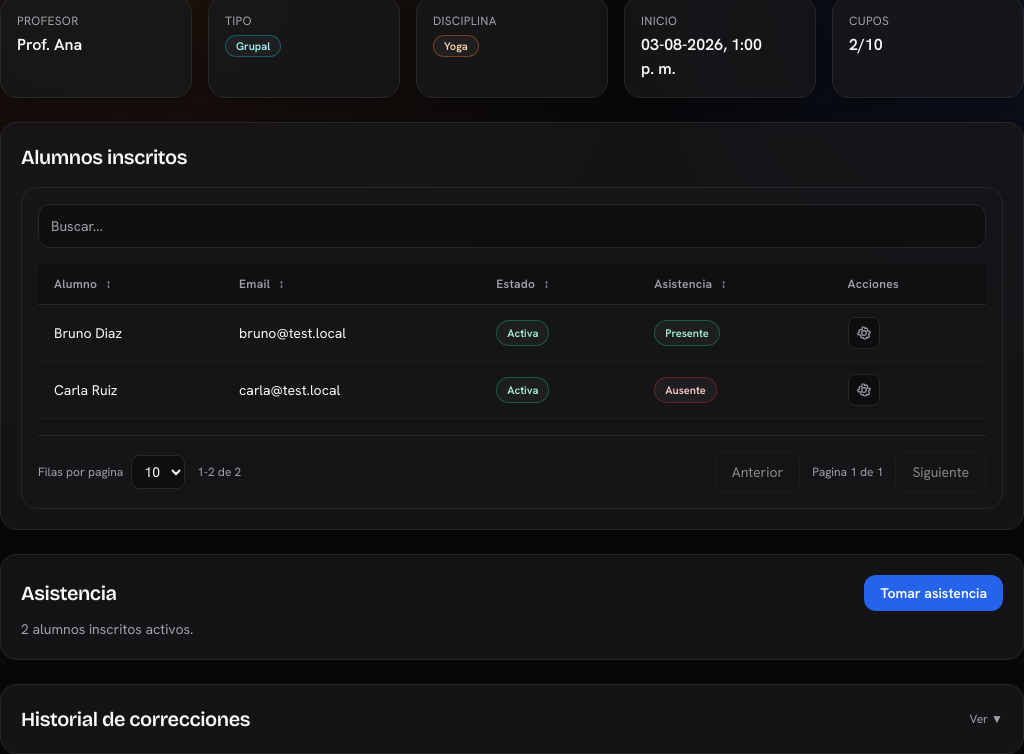
GymAdminClassDetailPage — historial de correcciones (#10.2) › un rol distinto de gym_admin/superadmin recibe 403 y la sección lo muestra como error, no como vacío
(page scrolled)
Check: the button "Tomar asistencia" is enabled, box [864,575,1003,611]
Click the button "Historial de correcciones Ver ▼". click: (136, 719)
box: [21,705,1003,733]
(page scrolled)
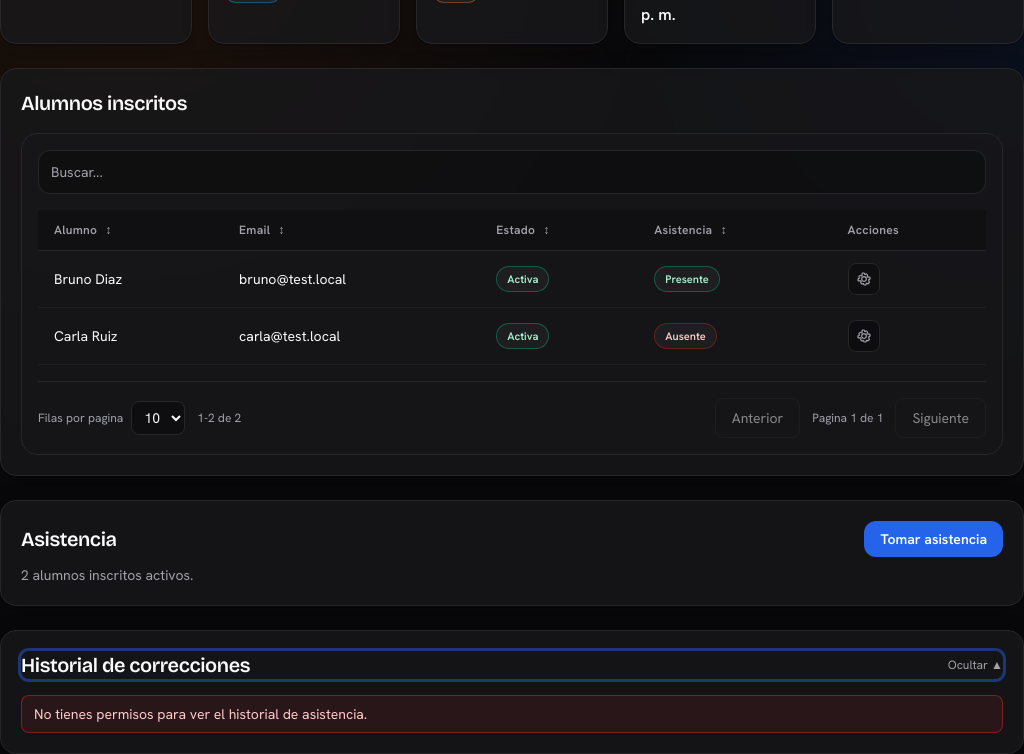
Check: the text "No tienes permisos para ver el historial de asistencia." is shown, box [21,695,1003,733]
